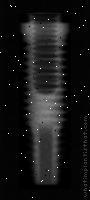Keystone Dental: (15, 13, 71, 190)
